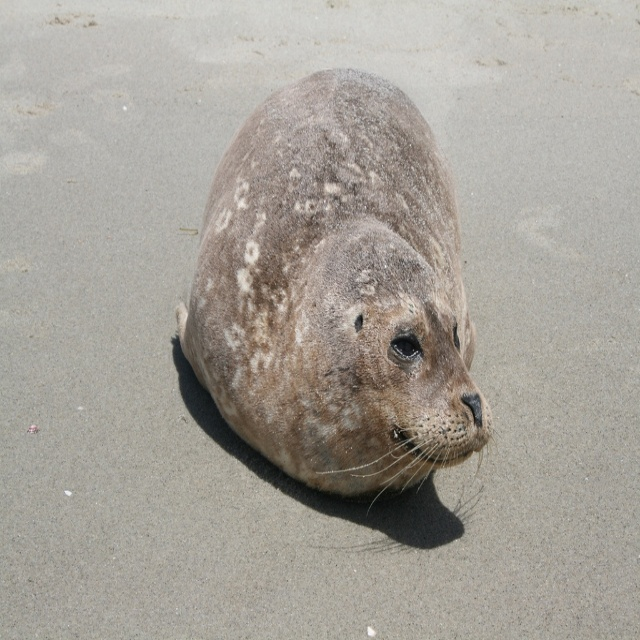Harbor seal: (164, 53, 502, 538)
